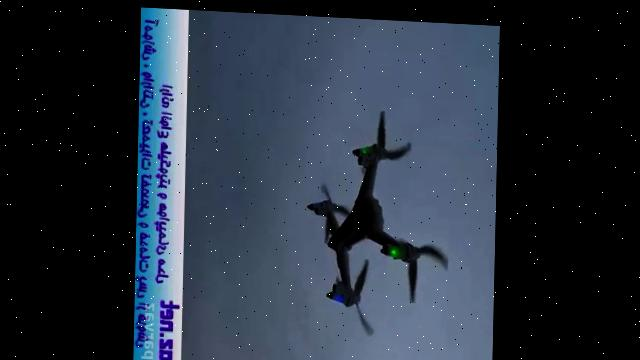drone: (303, 99, 454, 340)
